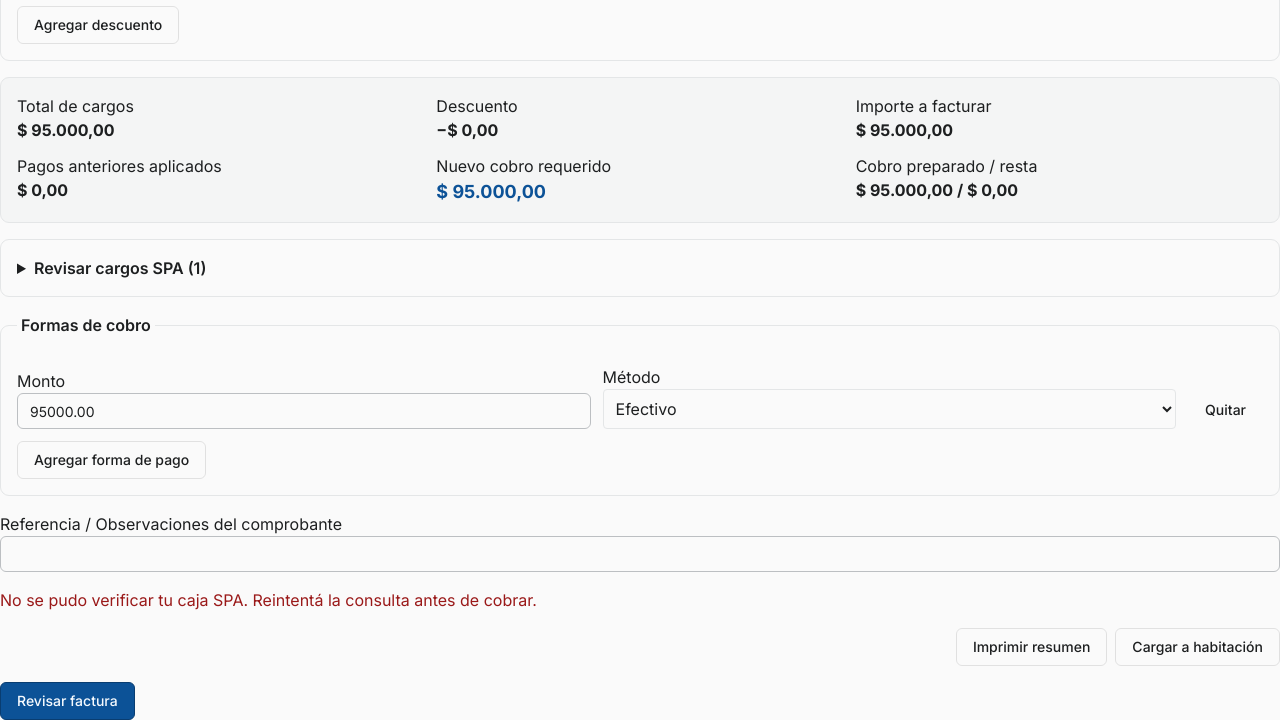
Scenario: reviews an unpaid invoice with no open cash shift without writing or authorizing
(page scrolled)
Expected: the field named "Monto del cobro 1" is shown, [17,393,590,429]
Click the button "Revisar factura".
click(67, 701)  # box [0,682,135,719]
(page scrolled)
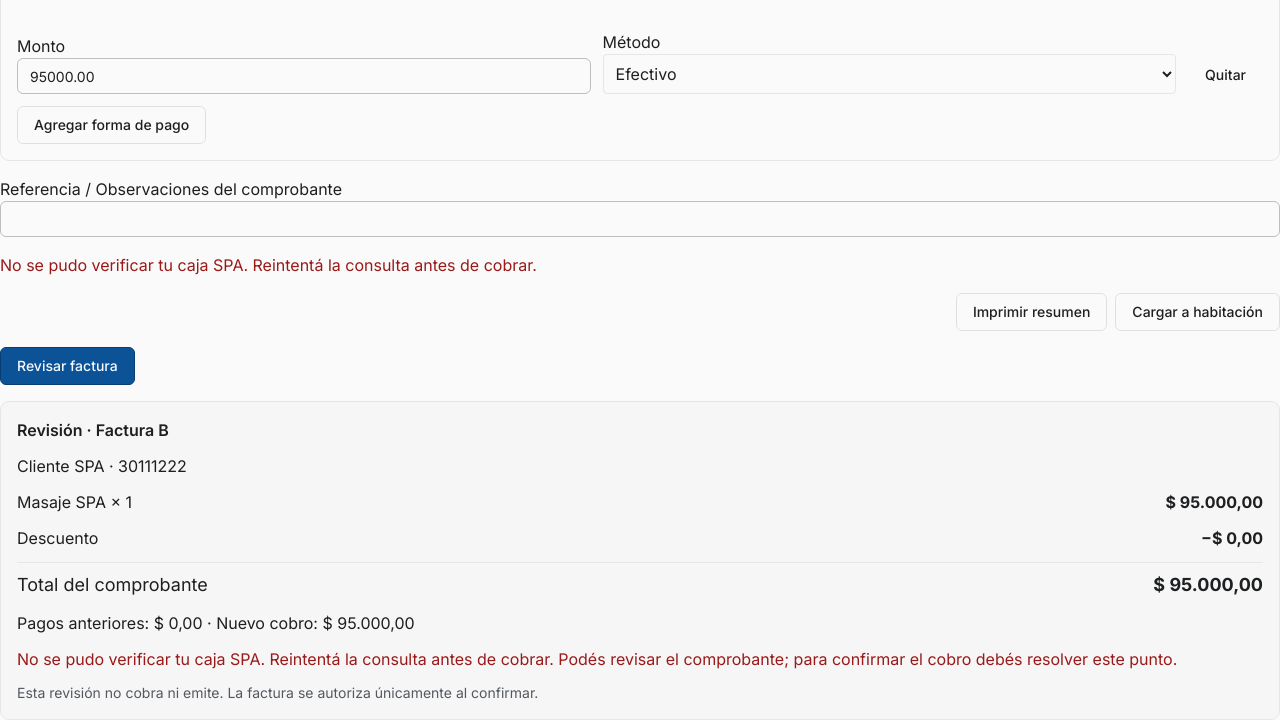
Now the element named "Revisión del comprobante SPA" shows "95.000", box [1166,492,1263,512]
